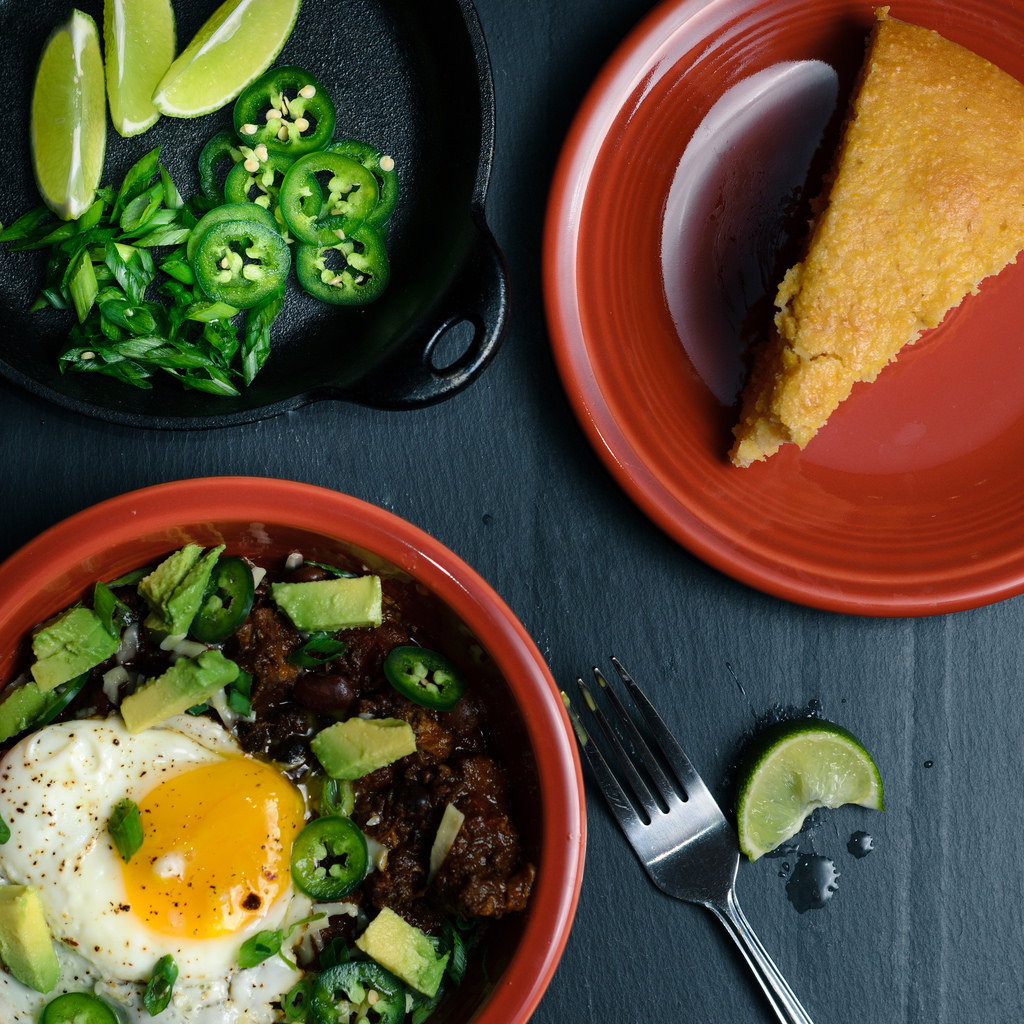fried egg: (9, 730, 347, 973)
slice of bread: (750, 32, 986, 468)
